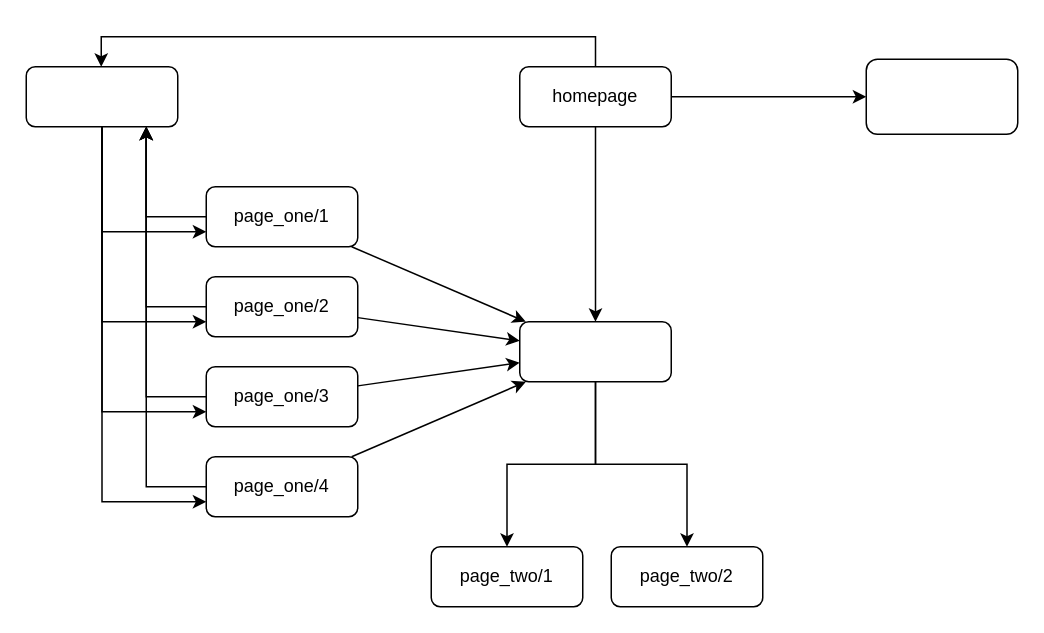
Some shapes in this 1044 by 633 pixel diagram are drawn without their labels. The box of each missing label's shape, as (x1, y1, x2, y2) in pixels:
page_one: (25, 65, 178, 127)
page_three (doesn't exist): (865, 58, 1018, 134)
page_two: (518, 320, 671, 382)
